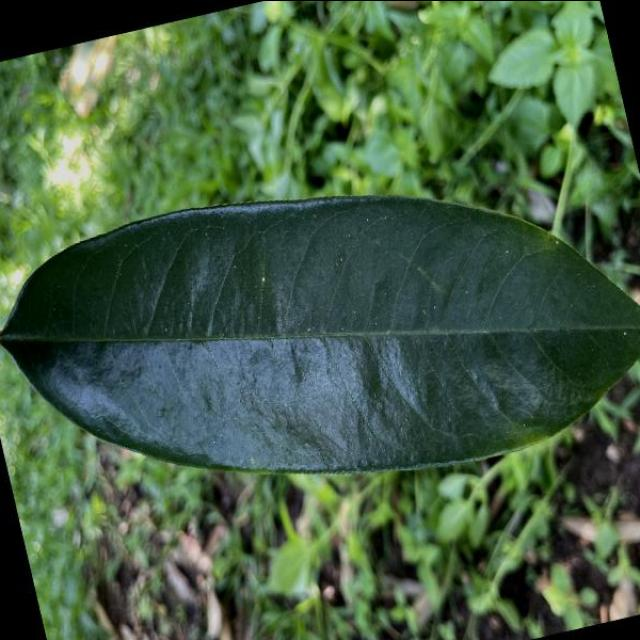No Disease: (0, 97, 640, 578)
